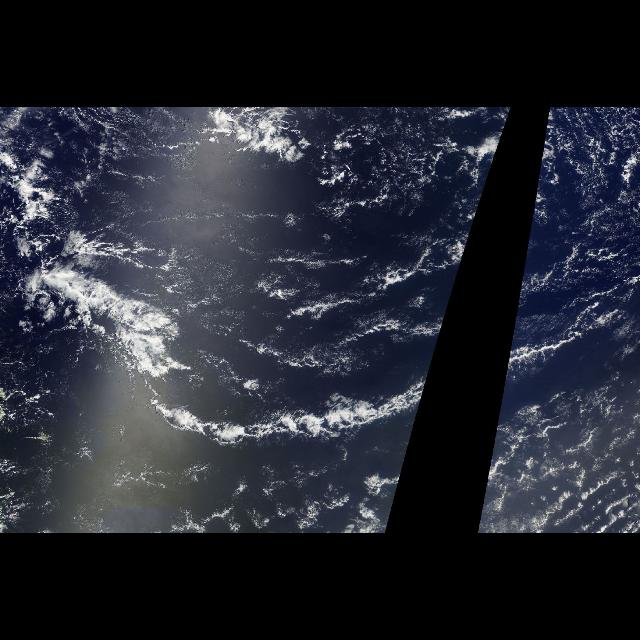Fish: (4, 156, 434, 450)
Gravel: (513, 378, 639, 530)
Sugar: (6, 110, 512, 278), (522, 110, 640, 340)
